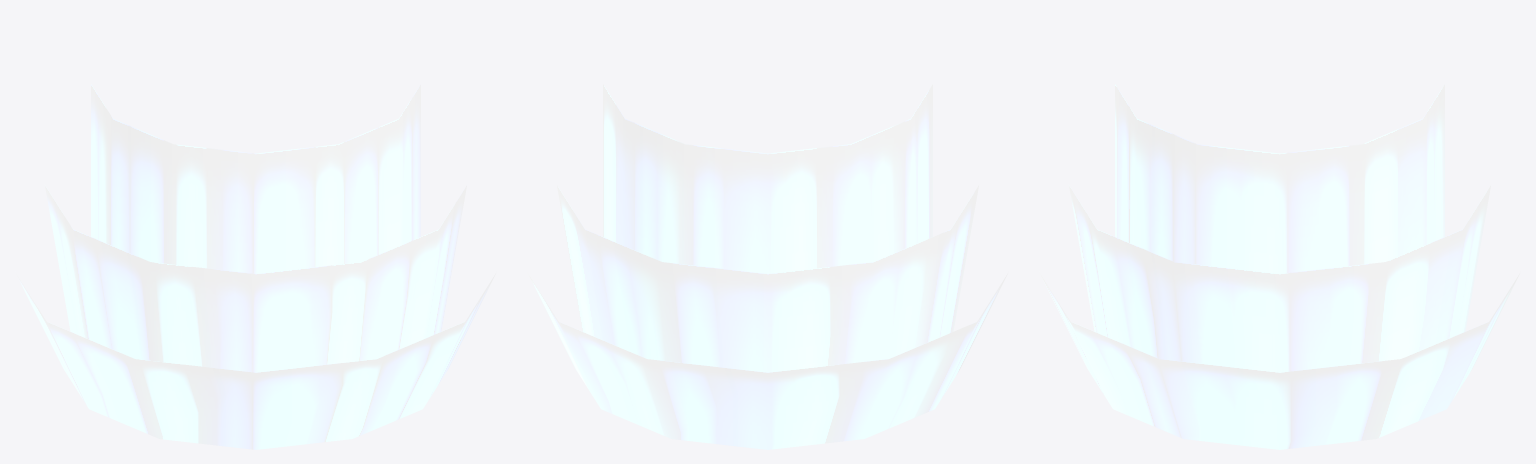
The model's file is sfx_common_condition_blue.glb.
3 renders of one model, left to right at view 1: azimuth 30°, elevation 25°; view 2: azimuth 150°, elevation 25°; view 3: azimuth 270°, elevation 25°, orthographic.
Visible parts, largest first — view 1: sfx_common_condition_blue_obj0, sfx_common_condition_blue_obj1, sfx_common_condition_blue_obj2; view 2: sfx_common_condition_blue_obj0, sfx_common_condition_blue_obj1, sfx_common_condition_blue_obj2; view 3: sfx_common_condition_blue_obj0, sfx_common_condition_blue_obj1, sfx_common_condition_blue_obj2.
Boxes of the visible parts, <box> form: sfx_common_condition_blue_obj0: <box>91,84,420,273</box>; sfx_common_condition_blue_obj1: <box>45,185,466,372</box>; sfx_common_condition_blue_obj2: <box>16,273,495,449</box>; sfx_common_condition_blue_obj0: <box>603,84,932,273</box>; sfx_common_condition_blue_obj1: <box>557,185,978,372</box>; sfx_common_condition_blue_obj2: <box>528,273,1007,449</box>; sfx_common_condition_blue_obj0: <box>1115,84,1444,273</box>; sfx_common_condition_blue_obj1: <box>1069,185,1490,372</box>; sfx_common_condition_blue_obj2: <box>1040,273,1519,449</box>.
Size of the model in its own units: 0.7606 by 0.4948 by 0.7606.
Materials: 1 (1 with a texture image).
